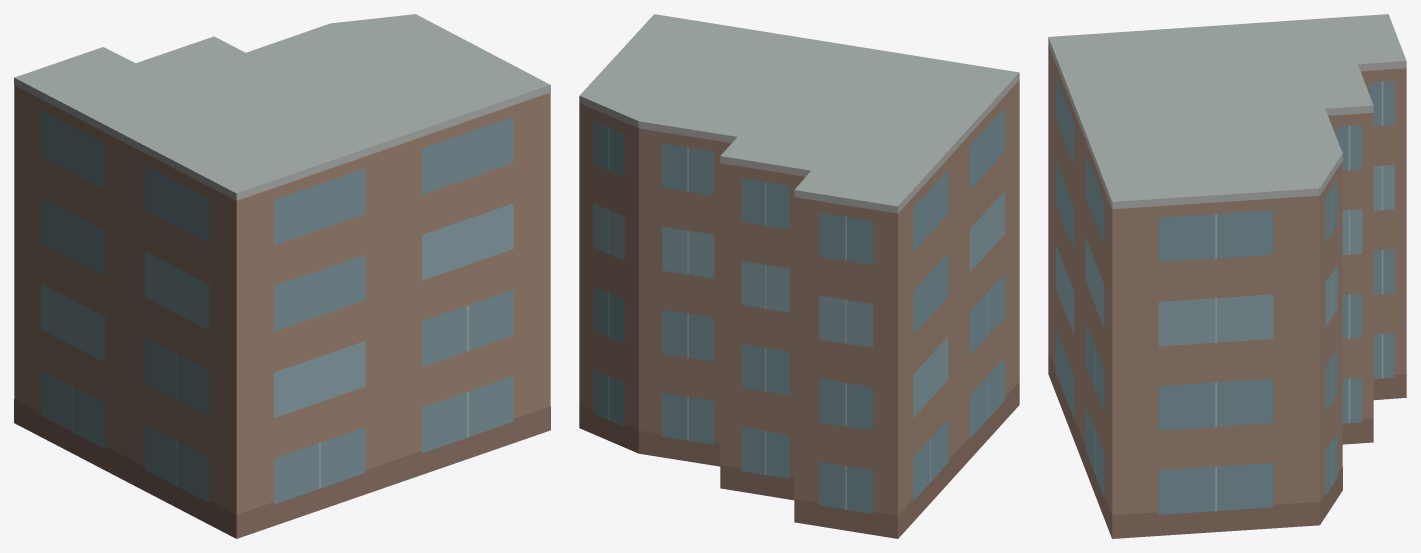
Rendered from survey-upis-32527068.glb.
3 views of the same model, side by side, from view 1: azimuth 30°, elevation 25°; view 2: azimuth 150°, elevation 25°; view 3: azimuth 270°, elevation 25° (orthographic). The views are drawn at different scales.
Parts seen in each view (by area): view 1: survey-upis-32527068.tmp; view 2: survey-upis-32527068.tmp; view 3: survey-upis-32527068.tmp.
Boxes of the visible parts, x1,y1,x2,y2 form: survey-upis-32527068.tmp: (14, 14, 550, 538); survey-upis-32527068.tmp: (579, 14, 1019, 538); survey-upis-32527068.tmp: (1048, 14, 1406, 538).
Size of the model in its own units: 13.55 by 11.31 by 10.92.
